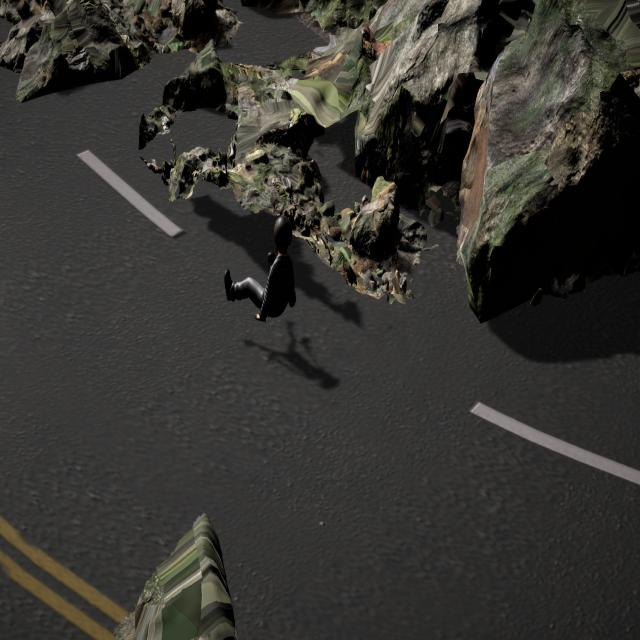Human: (221, 210, 300, 326)
